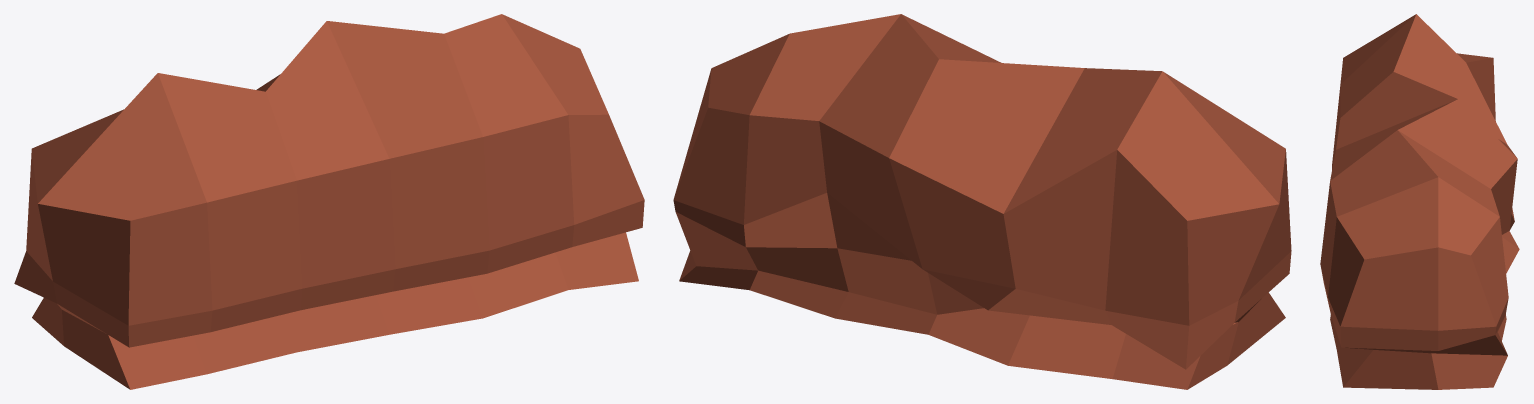
Rendered from LawaRockWall.fbx.
The picture shows the model from 3 angles, left to right: view 1: azimuth 30°, elevation 25°; view 2: azimuth 150°, elevation 25°; view 3: azimuth 270°, elevation 25°; orthographic projection. The views are drawn at different scales.
Parts seen in each view (by area): view 1: Cube.001; view 2: Cube.001; view 3: Cube.001.
Part boxes in pixels (<box>): Cube.001: <box>14,14,644,389</box>; Cube.001: <box>673,14,1291,389</box>; Cube.001: <box>1320,14,1519,389</box>.
Bounding box in the file's own units: 1917 × 906 × 766.
